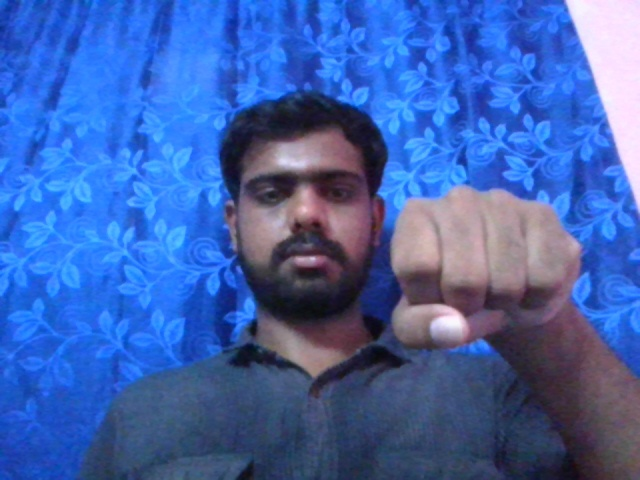Yes: (387, 182, 583, 346)
